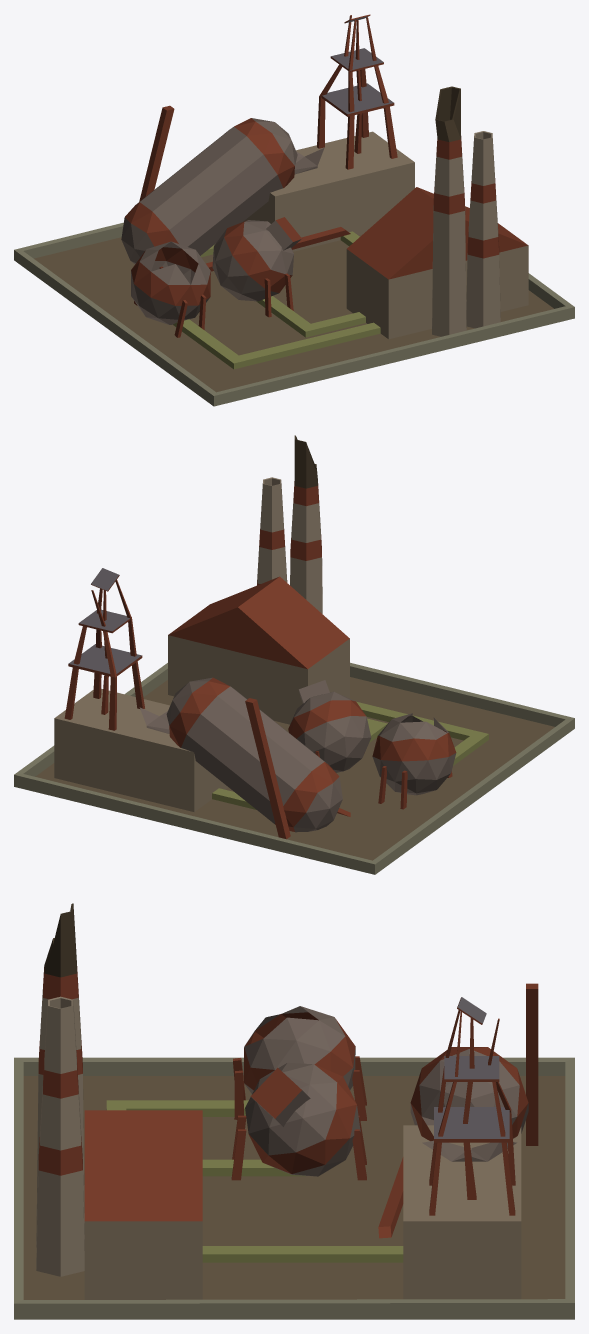
Rendered from DmgOil ref.fbx.
3 views of the same model, one above another, from view 1: azimuth 30°, elevation 25°; view 2: azimuth 150°, elevation 25°; view 3: azimuth 270°, elevation 25° (orthographic). The views are drawn at different scales.
Parts seen in each view (by area): view 1: Plane, balls.001, Buidlings, chims, metal frame, Pipes; view 2: Plane, Buidlings, balls.001, chims, metal frame, Pipes; view 3: Plane, Buidlings, balls.001, chims, metal frame, Pipes.
Boxes of the visible parts, x1,y1,x2,y2 form: Plane: (14,222,574,406); balls.001: (121,105,350,337); Buidlings: (243,131,528,339); chims: (432,86,500,336); metal frame: (317,14,397,169); Pipes: (173,231,380,369); Plane: (14,662,574,874); Buidlings: (54,576,349,811); balls.001: (139,677,456,839); chims: (257,435,322,613); metal frame: (64,568,144,730); Pipes: (212,701,488,809); Plane: (14,1057,574,1319); Buidlings: (84,1110,521,1299); balls.001: (231,983,538,1238); chims: (36,903,84,1276); metal frame: (429,997,515,1215); Pipes: (106,1100,403,1262).
Bounding box in the file's own units: 992 × 666 × 951.
